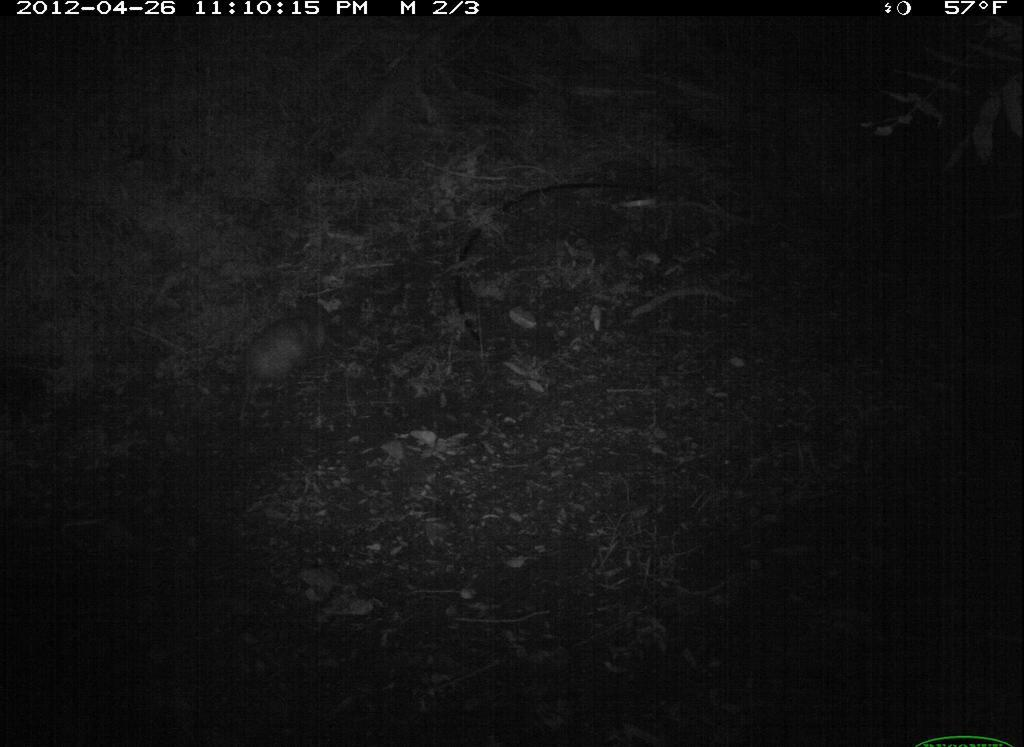opossum: (210, 306, 379, 440)
